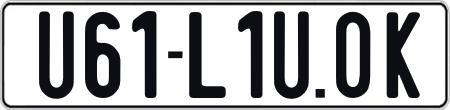0: (334, 11, 370, 102)
1: (130, 10, 160, 101), (236, 11, 262, 99)
6: (82, 11, 121, 99)
K: (386, 9, 424, 100)
L: (186, 9, 226, 97)
U: (36, 9, 77, 100), (273, 8, 312, 100)
